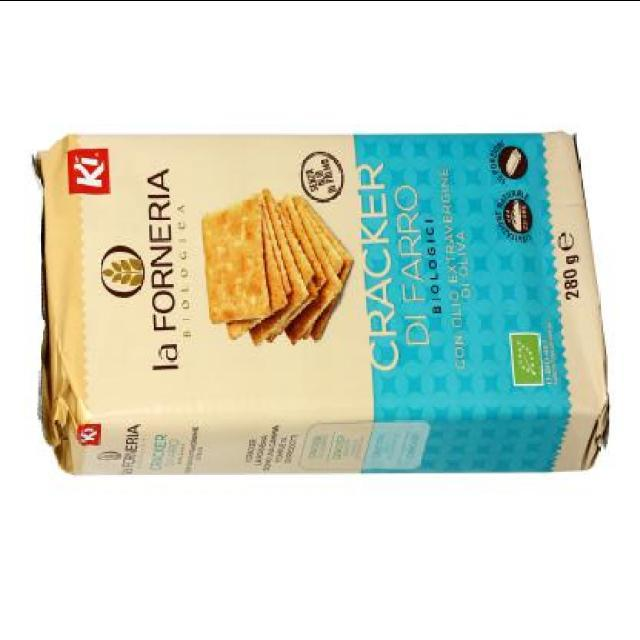Cracker: (24, 120, 616, 494)
